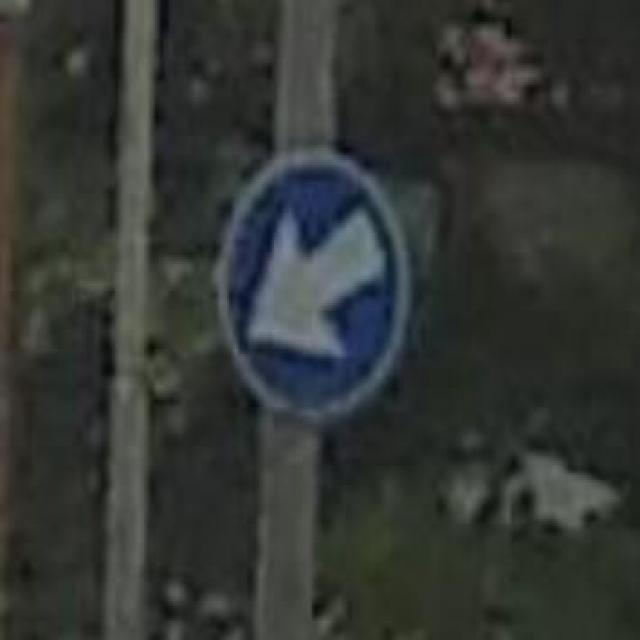traffic sign: (229, 155, 400, 400)
